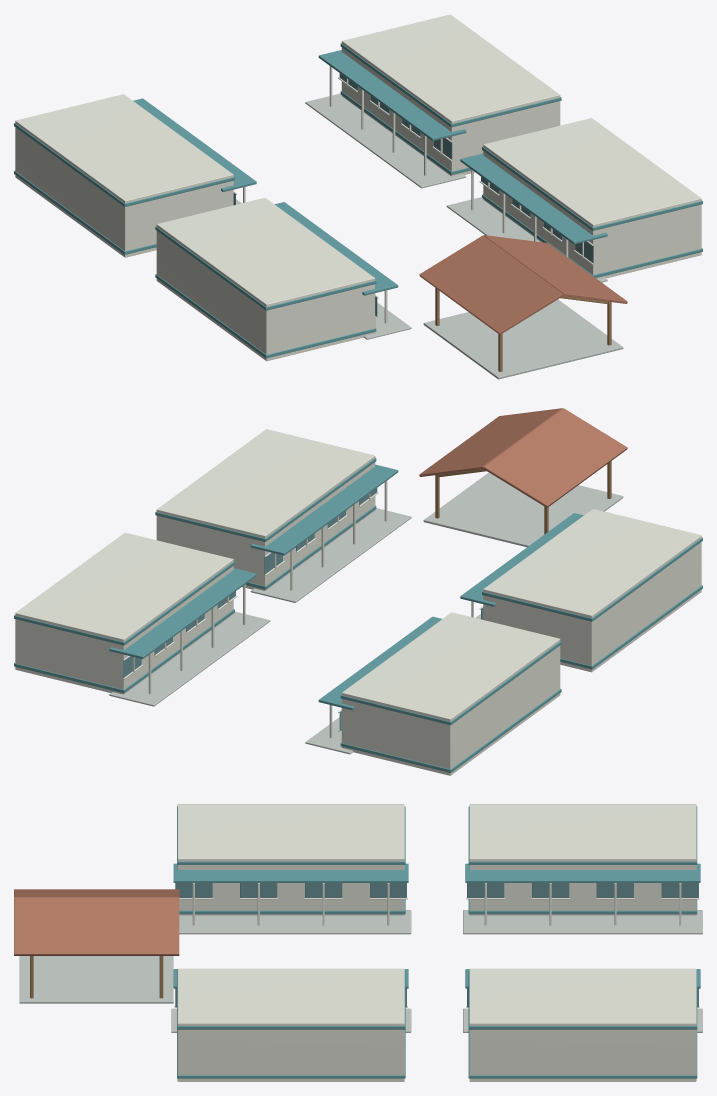
Rendered from community-school.glb.
3 renders of one model, top to bottom at view 1: azimuth 30°, elevation 25°; view 2: azimuth 150°, elevation 25°; view 3: azimuth 270°, elevation 25°, orthographic. The views are drawn at different scales.
Parts seen in each view (by area): view 1: School building, Colour band, Veranda paving, Pavilion pitched roof, Window, Pavilion post; view 2: School building, Veranda paving, Colour band, Pavilion pitched roof, Window, Pavilion post; view 3: School building, Veranda paving, Colour band, Pavilion pitched roof, Window.
Boxes of the visible parts, box(x1,y1,x2,y2) form: School building: box(15, 14, 701, 361); Colour band: box(14, 43, 702, 358); Veranda paving: box(236, 93, 623, 379); Pavilion pitched roof: box(419, 235, 627, 334); Window: box(233, 73, 593, 316); Pavilion post: box(435, 288, 611, 371); School building: box(15, 429, 701, 775); Veranda paving: box(109, 472, 623, 754); Colour band: box(14, 458, 702, 772); Pavilion pitched roof: box(419, 408, 627, 507); Window: box(123, 488, 483, 730); Pavilion post: box(435, 461, 611, 534); School building: box(174, 804, 699, 1081); Veranda paving: box(19, 910, 702, 1032); Colour band: box(173, 806, 700, 1078); Pavilion pitched roof: box(14, 889, 179, 955); Window: box(175, 883, 698, 1007).
Bounding box in the file's own units: 32.12 × 5.11 × 42.5.
